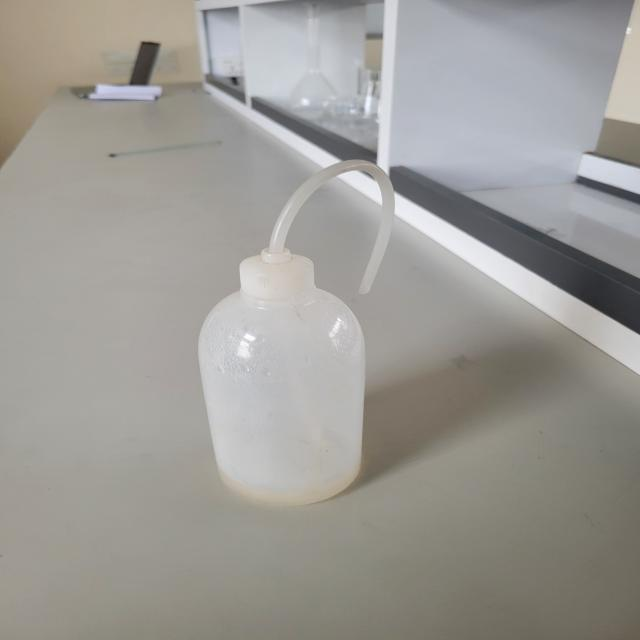Wash_Bottle: (140, 122, 443, 538)
